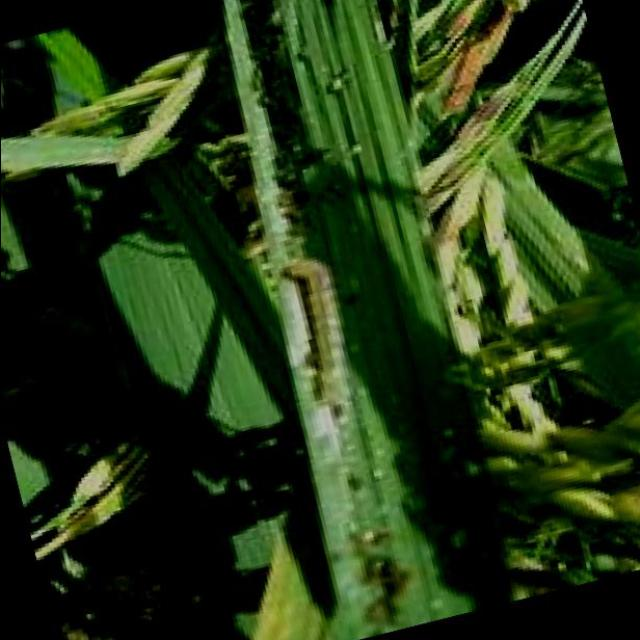leaf folder: (284, 260, 347, 420)
